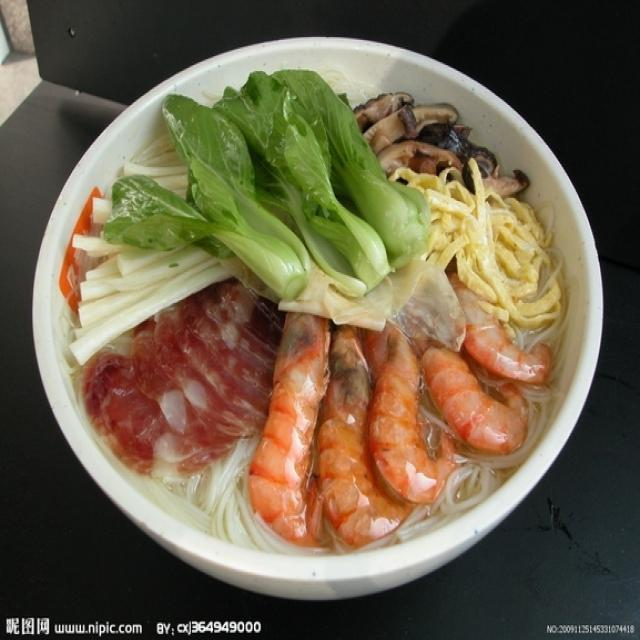面条主食: (24, 41, 584, 572)
